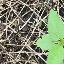Prickly Sida: (33, 0, 64, 64)
